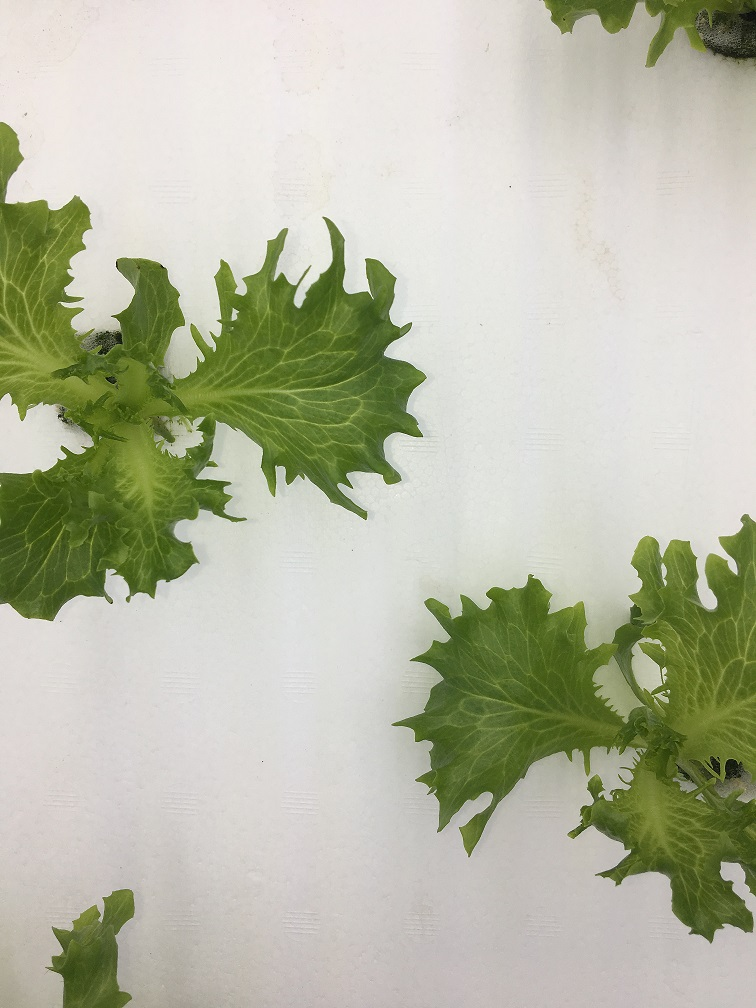tipburn: (156, 257, 175, 275), (555, 10, 572, 28), (111, 256, 126, 274)
